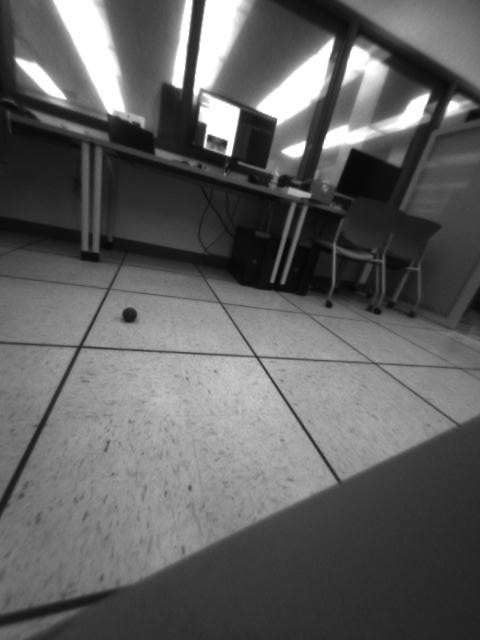dogtoy: (117, 298, 142, 327)
